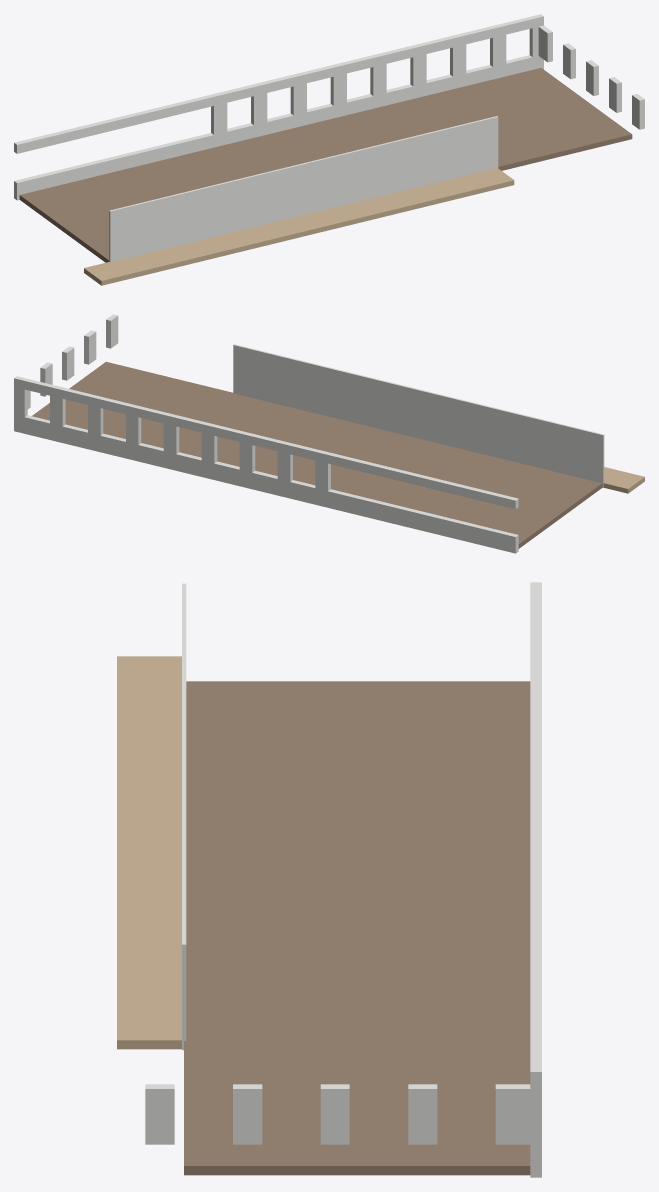
The model's file is SM_Bygg_Helgasetr_P6_O_N.fbx.
3 views of the same model, one above another, from view 1: azimuth 30°, elevation 25°; view 2: azimuth 150°, elevation 25°; view 3: azimuth 270°, elevation 25° (orthographic). The views are drawn at different scales.
Visible parts, largest first — view 1: SM_Bygg_Helgasetr_P6_O_N; view 2: SM_Bygg_Helgasetr_P6_O_N; view 3: SM_Bygg_Helgasetr_P6_O_N.
Part boxes in pixels (bbox=[...]): SM_Bygg_Helgasetr_P6_O_N: bbox=[14, 14, 644, 285]; SM_Bygg_Helgasetr_P6_O_N: bbox=[14, 314, 644, 553]; SM_Bygg_Helgasetr_P6_O_N: bbox=[117, 582, 541, 1177].
Size of the model in its own units: 14.56 by 41.5 by 4.
